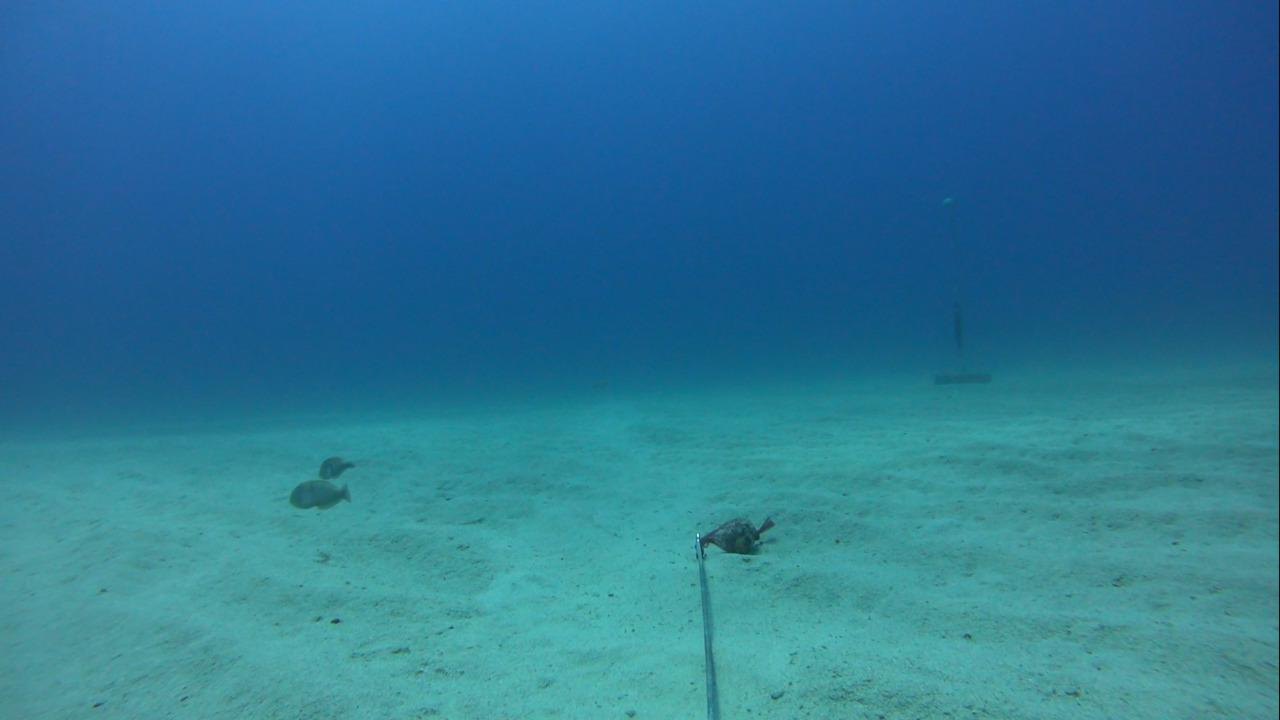raor: (284, 475, 355, 511), (312, 445, 356, 477)
